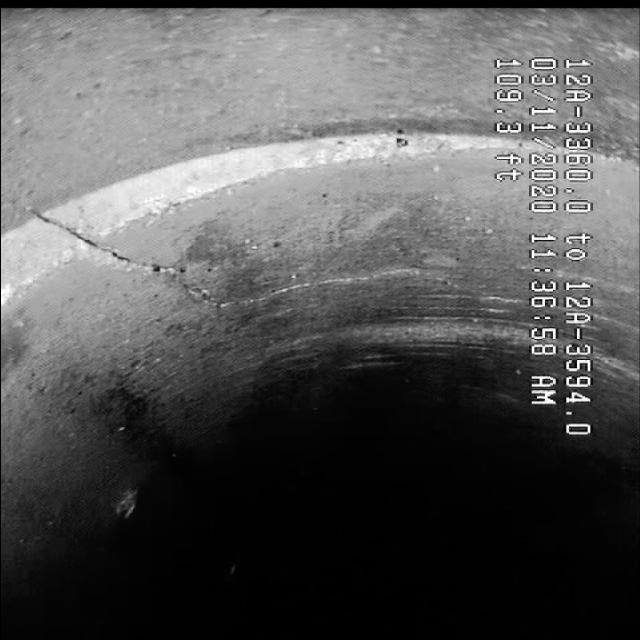Fracture: (64, 220, 428, 334)
